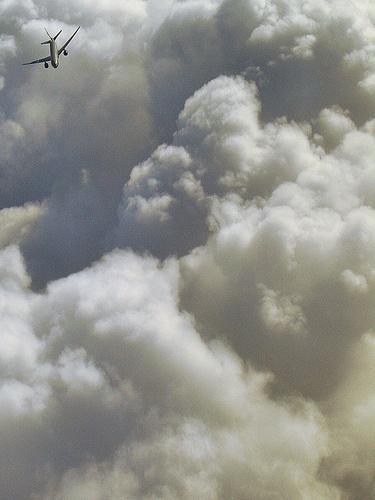aeroplane: (20, 26, 82, 72)
